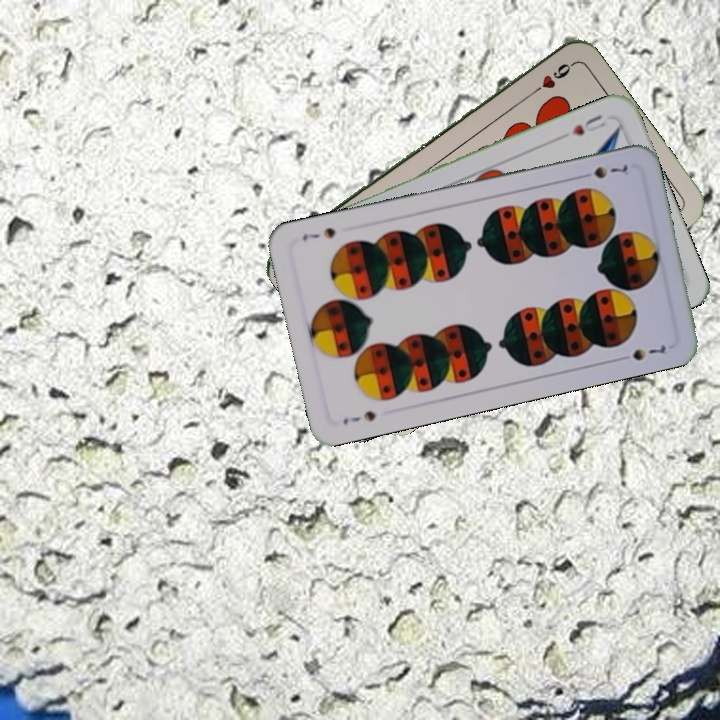H9: (525, 59, 576, 100)
HU: (567, 110, 609, 138)
S7: (575, 160, 631, 181), (339, 406, 378, 428)
